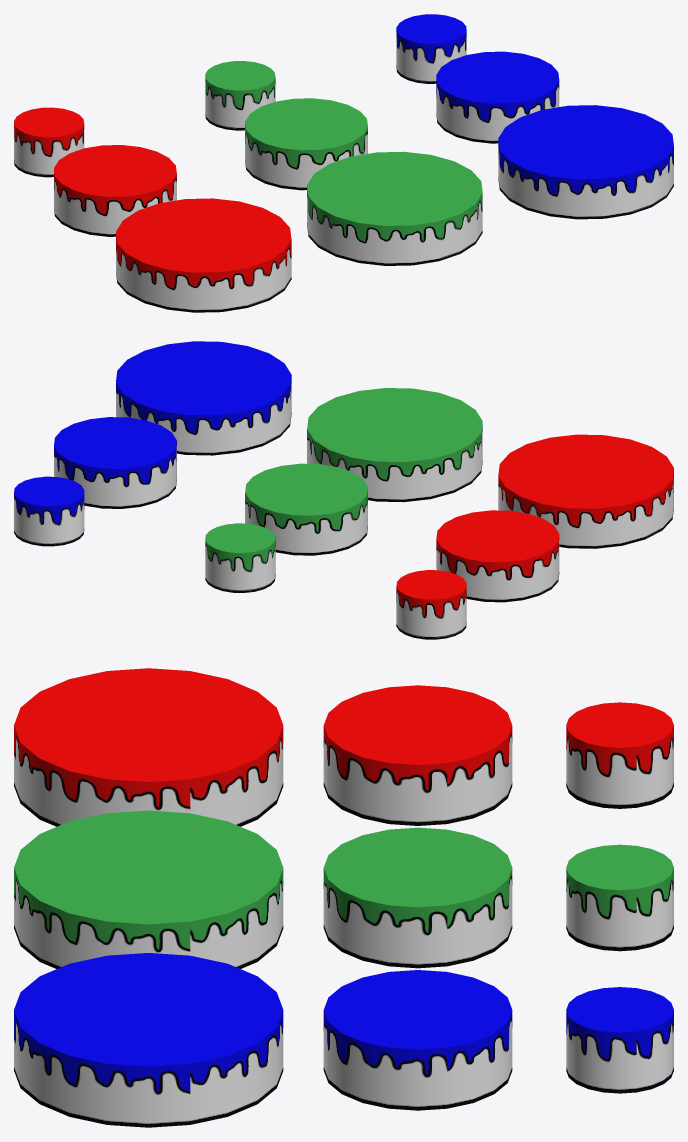
File: Cake.fbx
The picture shows the model from 3 angles, top to bottom: view 1: azimuth 30°, elevation 25°; view 2: azimuth 150°, elevation 25°; view 3: azimuth 270°, elevation 25°; orthographic projection. The views are drawn at different scales.
Visible parts, largest first — view 1: RedBig, BlueBig, GreenBig, BlueMedium, GreenMedium, RedMedium, BlueSmall, RedSmall, GreenSmall; view 2: BlueBig, RedBig, GreenBig, RedMedium, GreenMedium, BlueMedium, RedSmall, BlueSmall, GreenSmall; view 3: BlueBig, RedBig, GreenBig, RedMedium, BlueMedium, GreenMedium, GreenSmall, RedSmall, BlueSmall.
Part boxes in pixels (x1=…): RedBig: x1=116, y1=198, x2=291, y2=312; BlueBig: x1=498, y1=105, x2=673, y2=219; GreenBig: x1=307, y1=151, x2=482, y2=265; BlueMedium: x1=436, y1=51, x2=559, y2=143; GreenMedium: x1=245, y1=98, x2=367, y2=190; RedMedium: x1=54, y1=145, x2=176, y2=236; BlueSmall: x1=396, y1=14, x2=466, y2=83; RedSmall: x1=14, y1=107, x2=84, y2=177; GreenSmall: x1=205, y1=61, x2=275, y2=130; BlueBig: x1=116, y1=341, x2=291, y2=455; RedBig: x1=498, y1=434, x2=673, y2=548; GreenBig: x1=307, y1=388, x2=482, y2=502; RedMedium: x1=436, y1=510, x2=559, y2=602; GreenMedium: x1=245, y1=463, x2=367, y2=555; BlueMedium: x1=54, y1=417, x2=176, y2=508; RedSmall: x1=396, y1=570, x2=466, y2=639; BlueSmall: x1=14, y1=476, x2=84, y2=546; GreenSmall: x1=205, y1=523, x2=275, y2=592; BlueBig: x1=14, y1=953, x2=283, y2=1127; RedBig: x1=14, y1=668, x2=283, y2=826; GreenBig: x1=14, y1=810, x2=283, y2=968; RedMedium: x1=323, y1=685, x2=512, y2=825; BlueMedium: x1=323, y1=970, x2=512, y2=1110; GreenMedium: x1=323, y1=827, x2=512, y2=968; GreenSmall: x1=566, y1=844, x2=673, y2=951; RedSmall: x1=566, y1=702, x2=673, y2=808; BlueSmall: x1=566, y1=987, x2=673, y2=1093.
Size of the model in its own units: 3500 by 250 by 2450.
